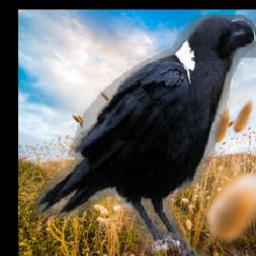Crow: (36, 16, 256, 256)
